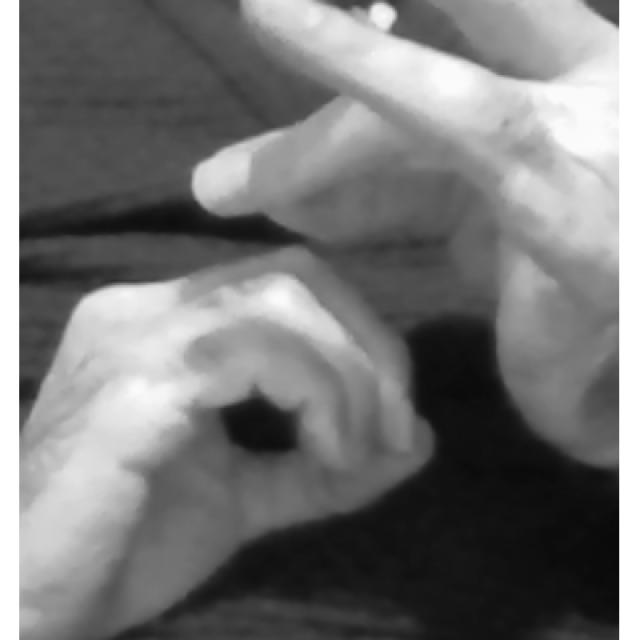O--: (20, 0, 618, 640)
